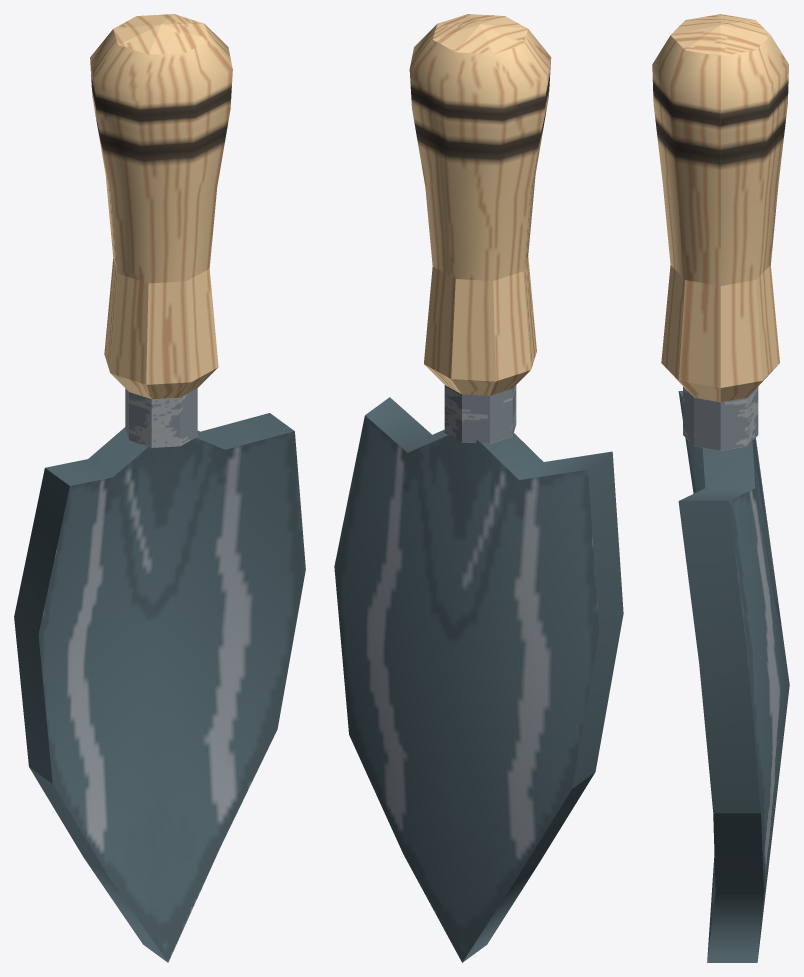
The model's file is Shovel.fbx.
3 renders of one model, left to right at view 1: azimuth 30°, elevation 25°; view 2: azimuth 150°, elevation 25°; view 3: azimuth 270°, elevation 25°, orthographic.
Parts seen in each view (by area): view 1: Shovel; view 2: Shovel; view 3: Shovel.
Boxes of the visible parts, x1=… form: Shovel: x1=14, y1=14, x2=305, y2=962; Shovel: x1=334, y1=14, x2=623, y2=962; Shovel: x1=652, y1=14, x2=789, y2=962.
Size of the model in its own units: 9.87 by 4.38 by 32.95.
Materials: 1 (1 with a texture image).
